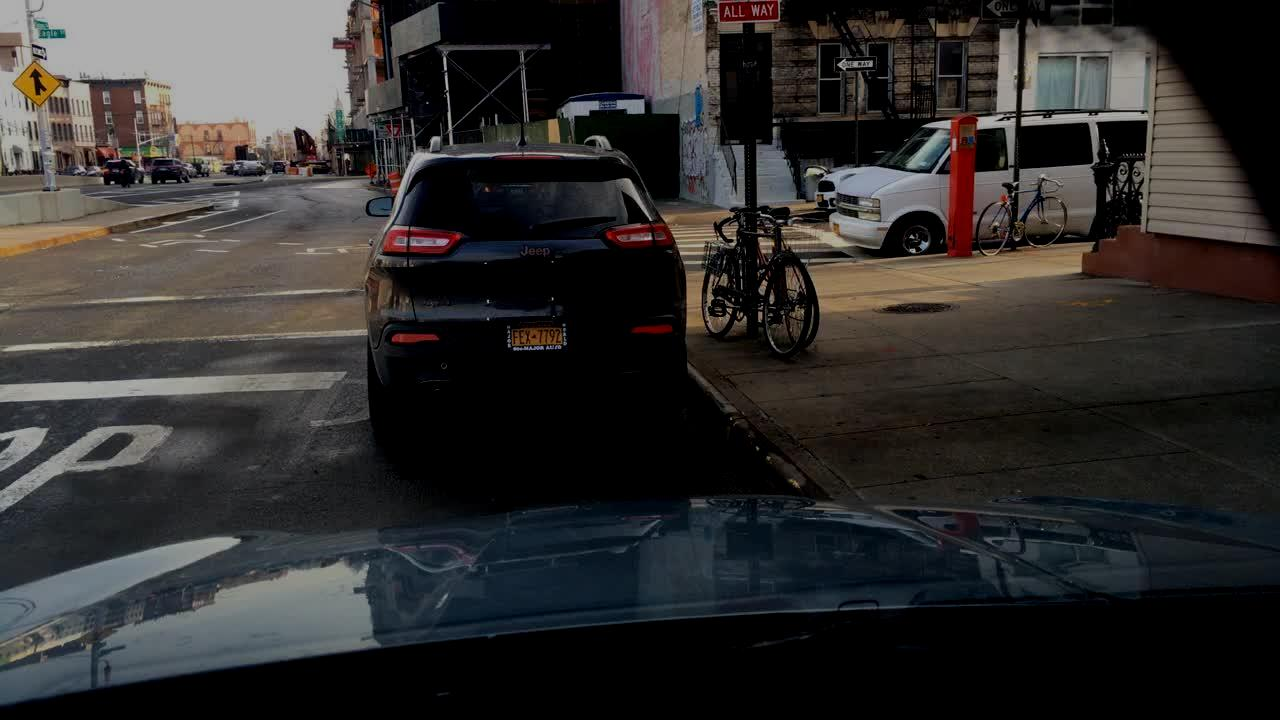jeep: (516, 239, 557, 269)
